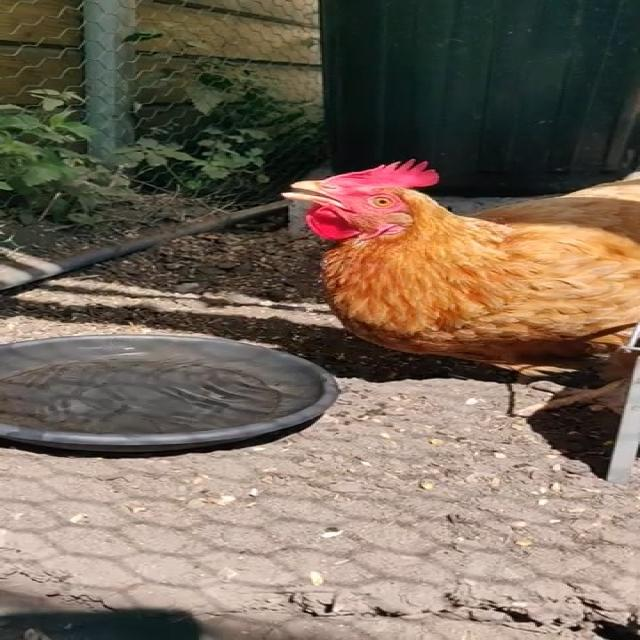drinking: (146, 158, 640, 380)
